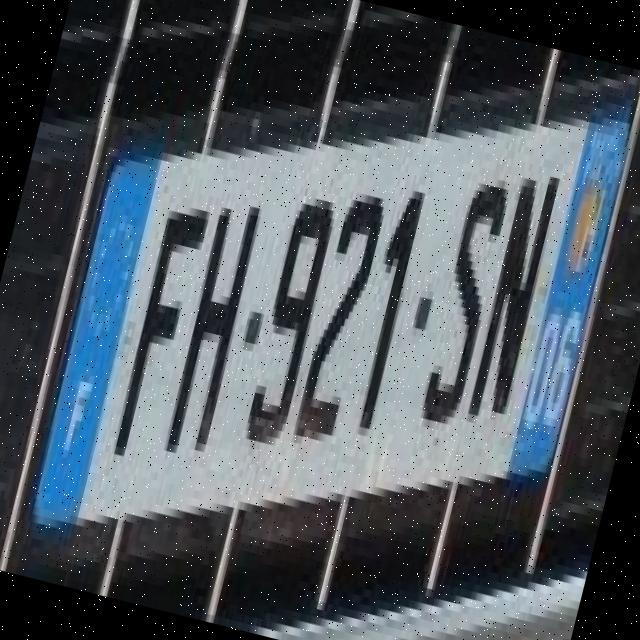EU: (25, 112, 636, 531)
France: (32, 162, 160, 522)
